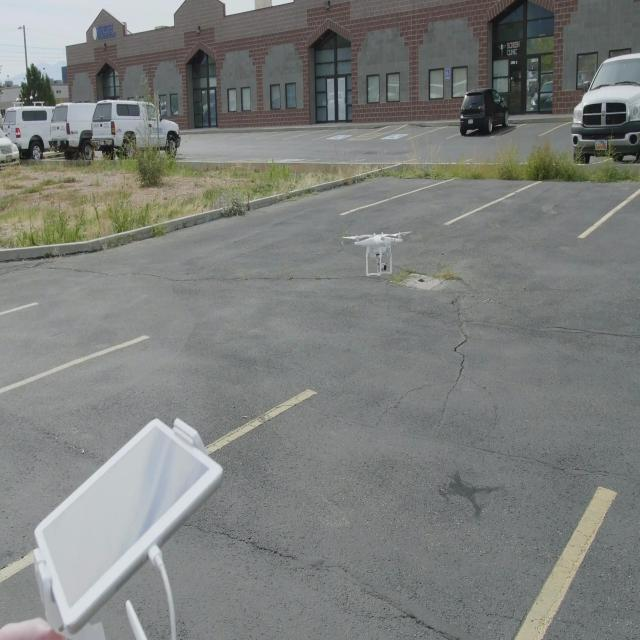drones: (334, 215, 419, 302)
